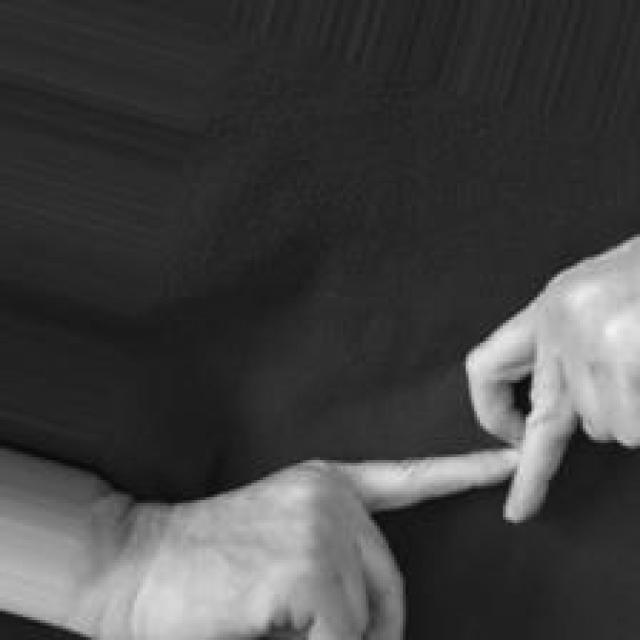R: (152, 231, 637, 640)
